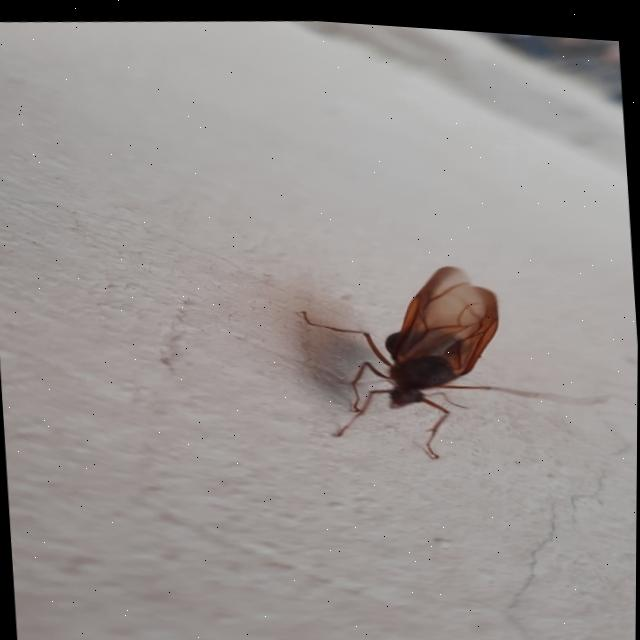Alive-Male-Alate: (296, 241, 613, 471)
